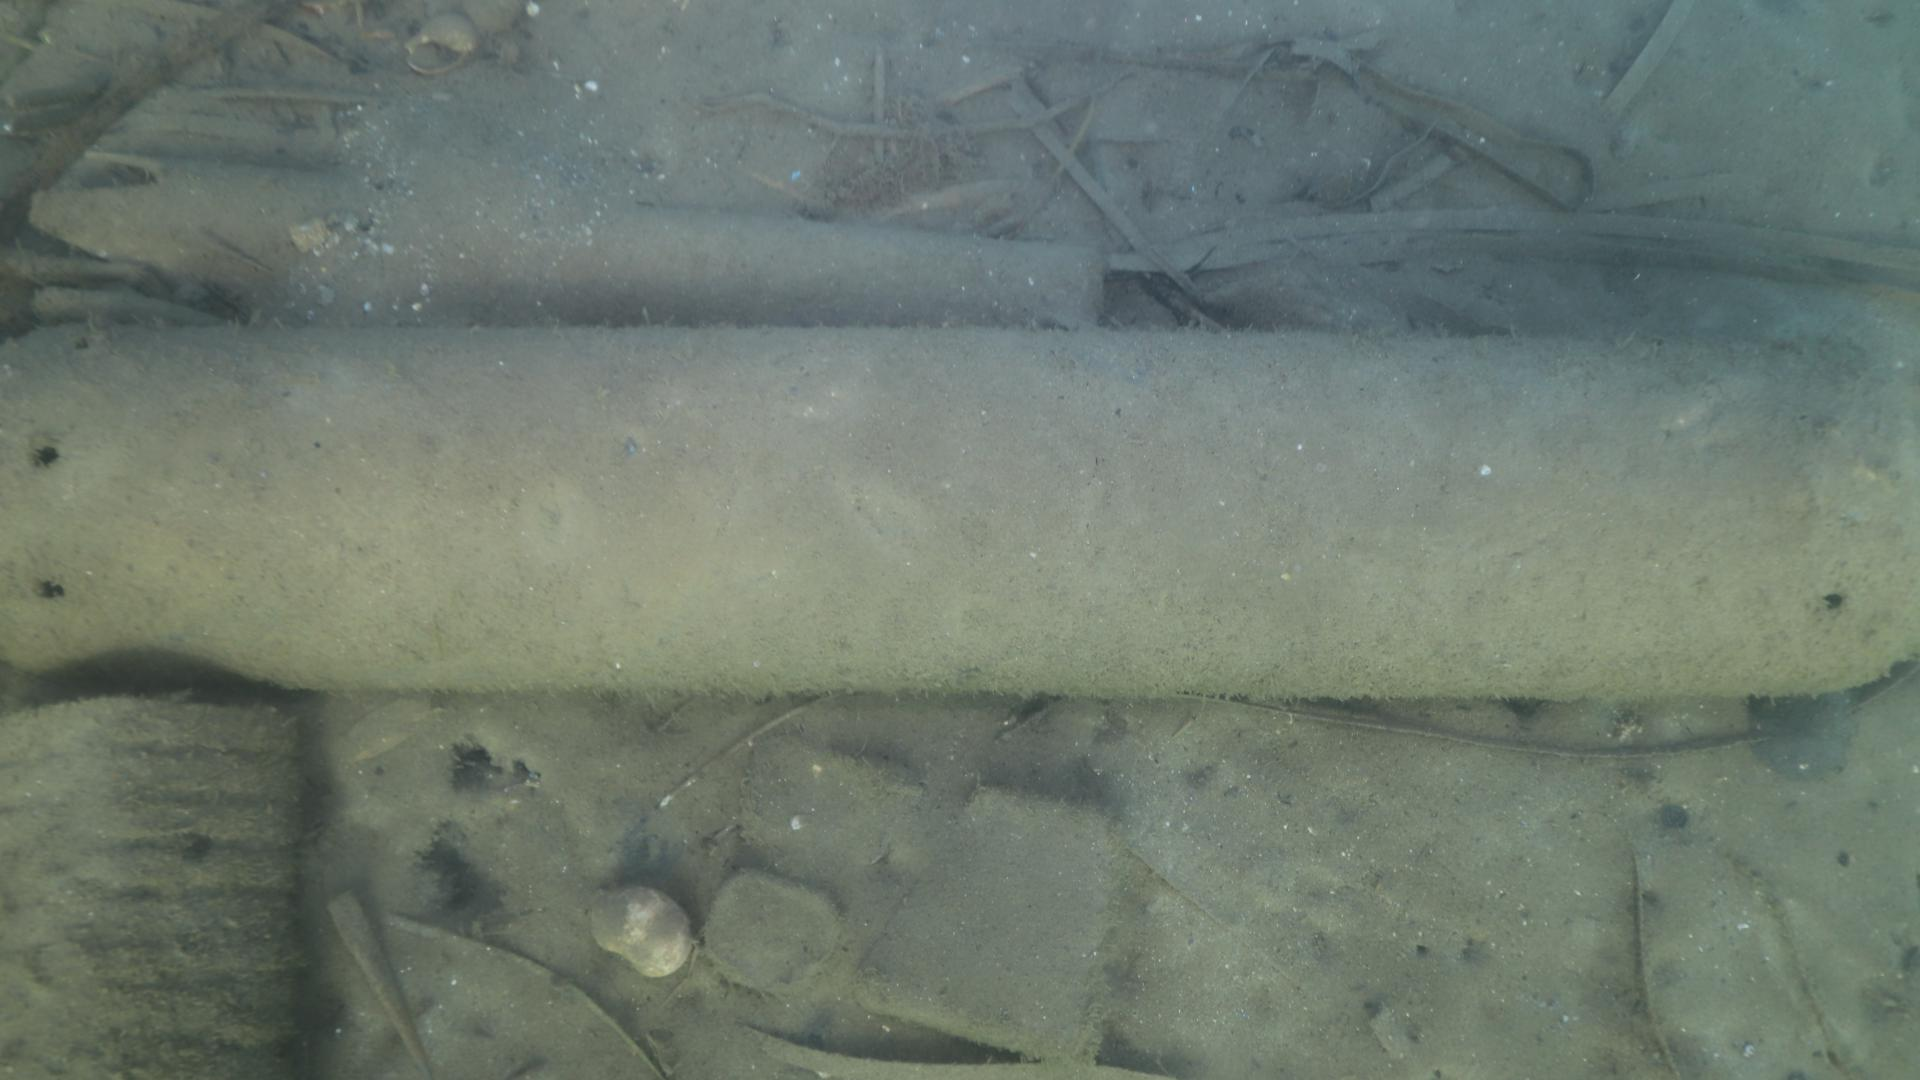eel fish trap: (0, 313, 1920, 702)
